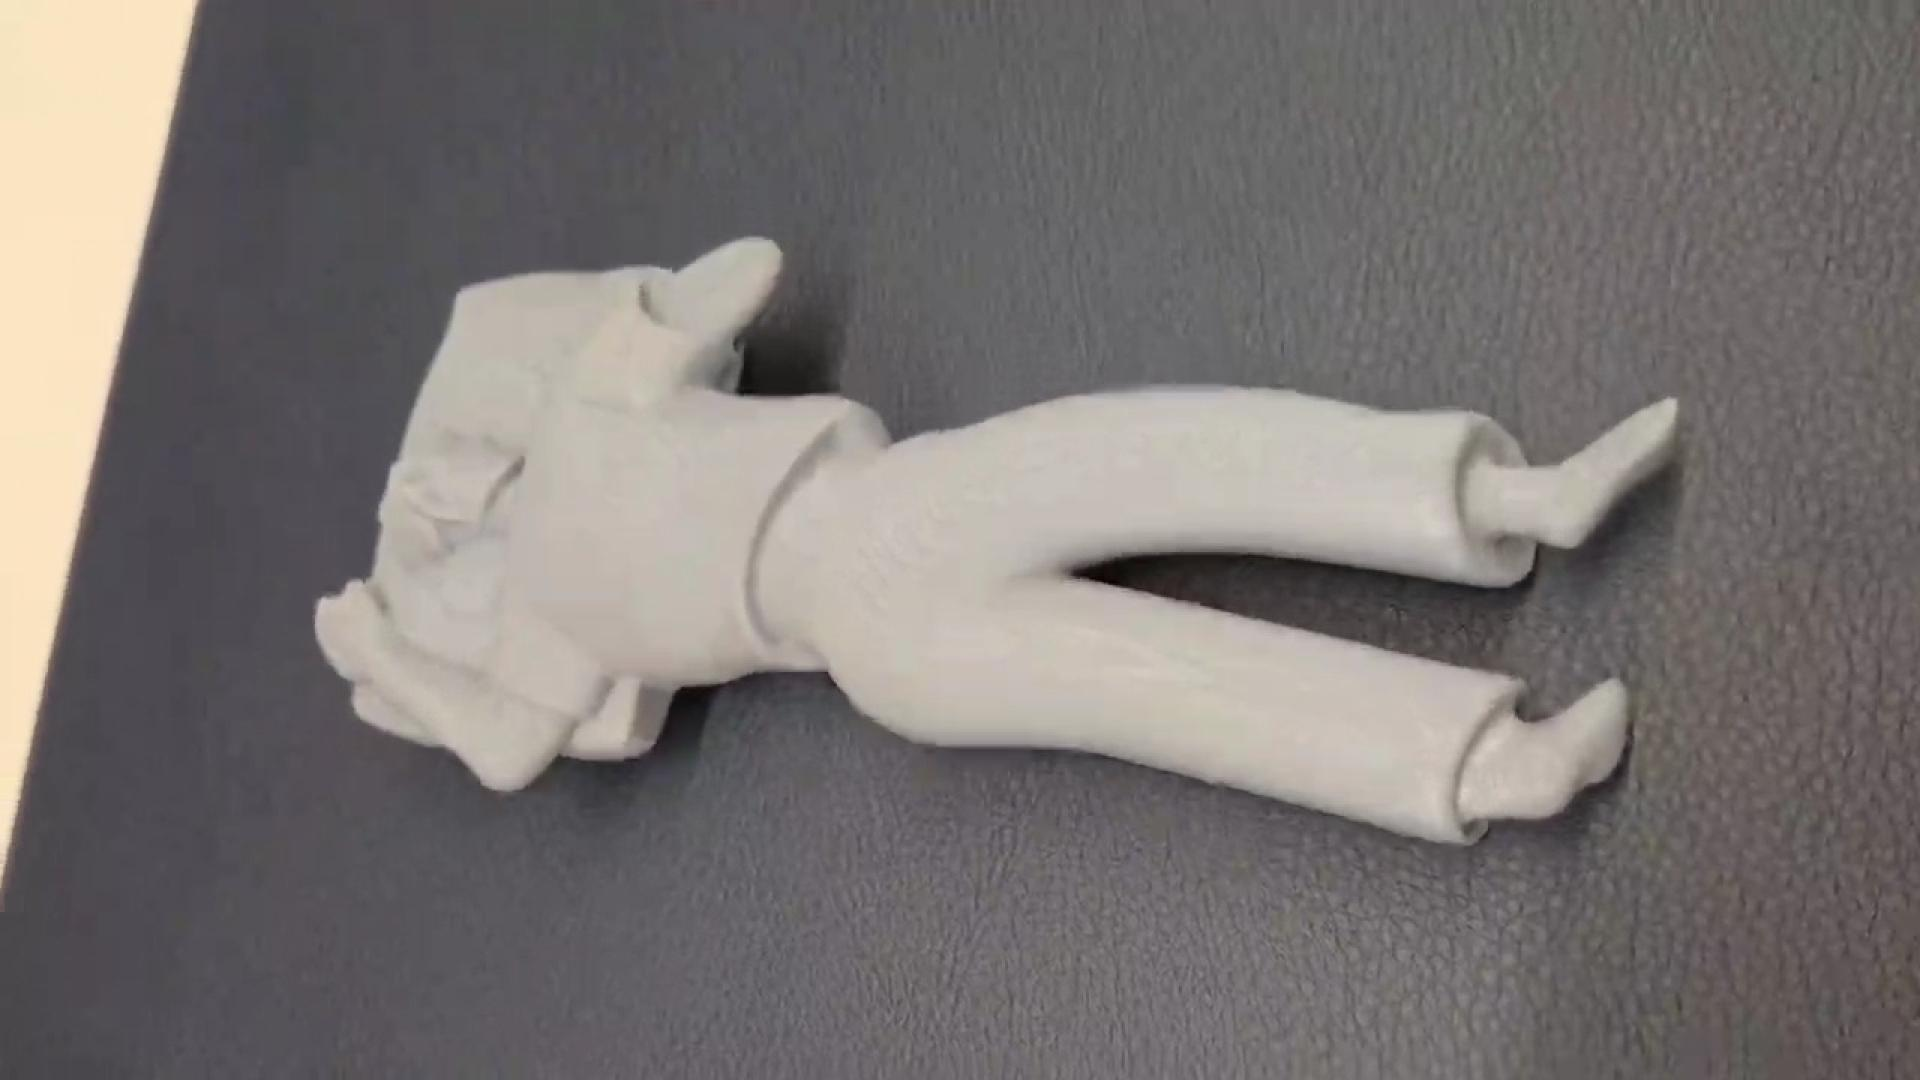Bad-style: (310, 233, 1689, 839)
